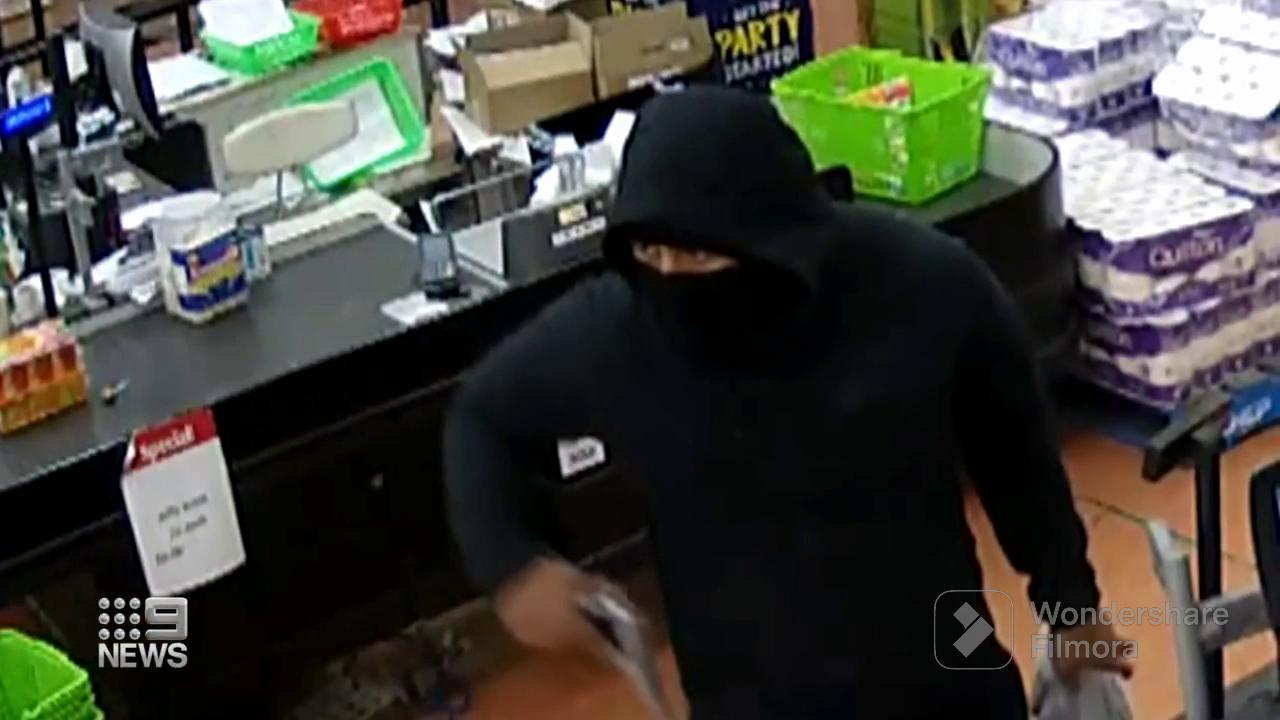gun: (572, 567, 687, 720)
